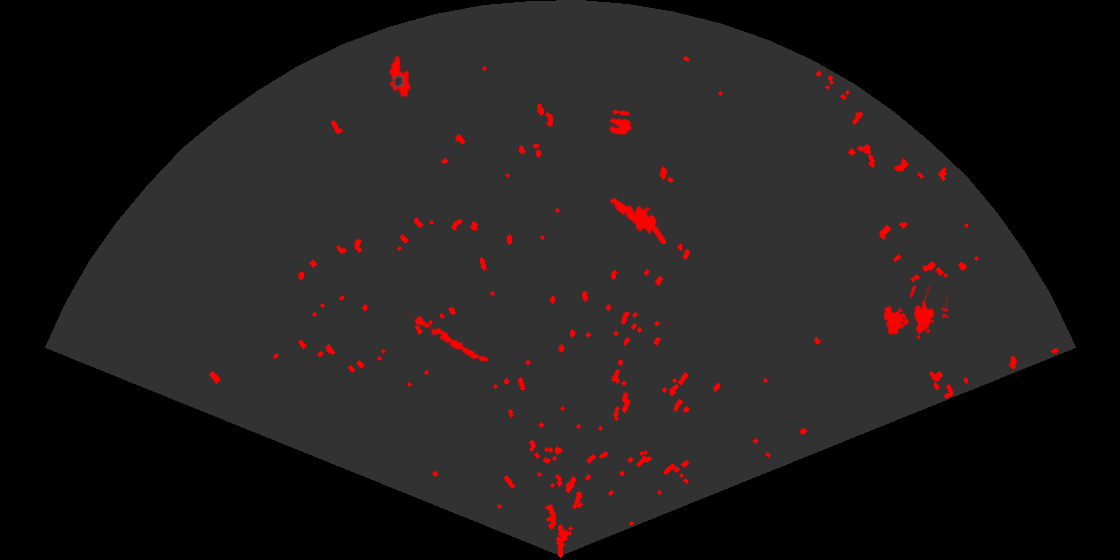AUV: (387, 54, 413, 99)
ball: (607, 108, 633, 136)
cage: (882, 286, 948, 341)
chain: (404, 309, 490, 364)
frogman: (608, 196, 666, 244)
